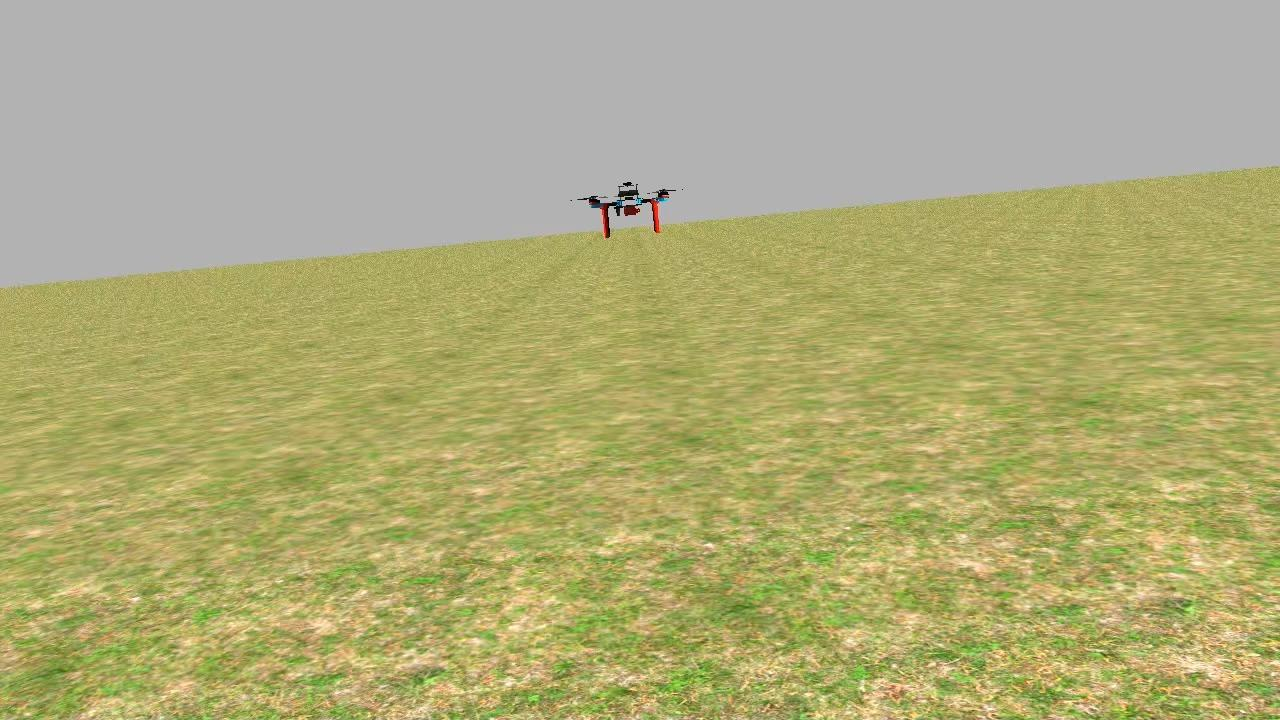UAV: (572, 176, 688, 247)
